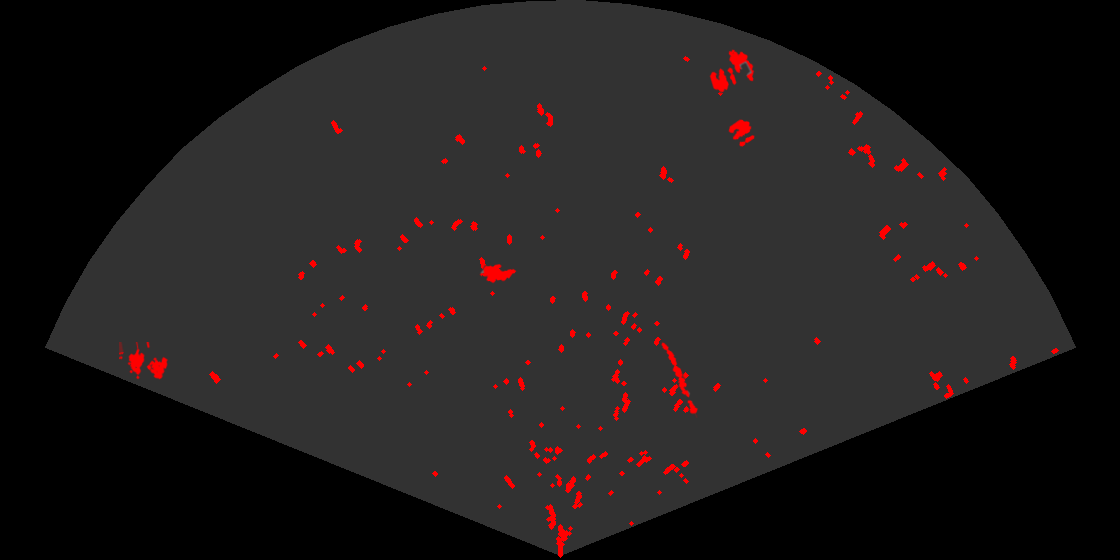AUV: (727, 48, 756, 83), (478, 262, 518, 285)
ball: (727, 118, 756, 148), (708, 66, 738, 94)
cage: (119, 342, 170, 381)
chain: (660, 340, 699, 418)
